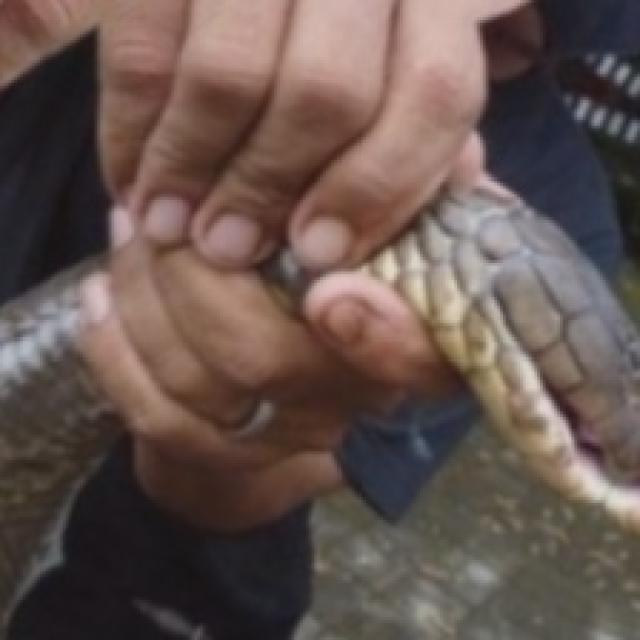king cobra: (11, 423, 637, 637), (363, 189, 637, 526), (297, 429, 637, 637), (0, 257, 117, 634), (0, 260, 114, 566), (0, 37, 106, 297), (486, 77, 569, 177)
